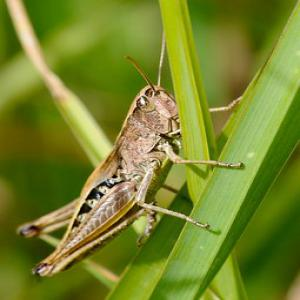locust: (21, 34, 236, 286)
